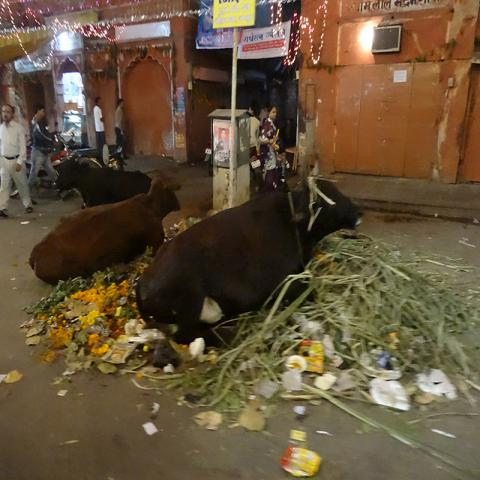motorcycle: (46, 118, 110, 168), (249, 144, 264, 194)
